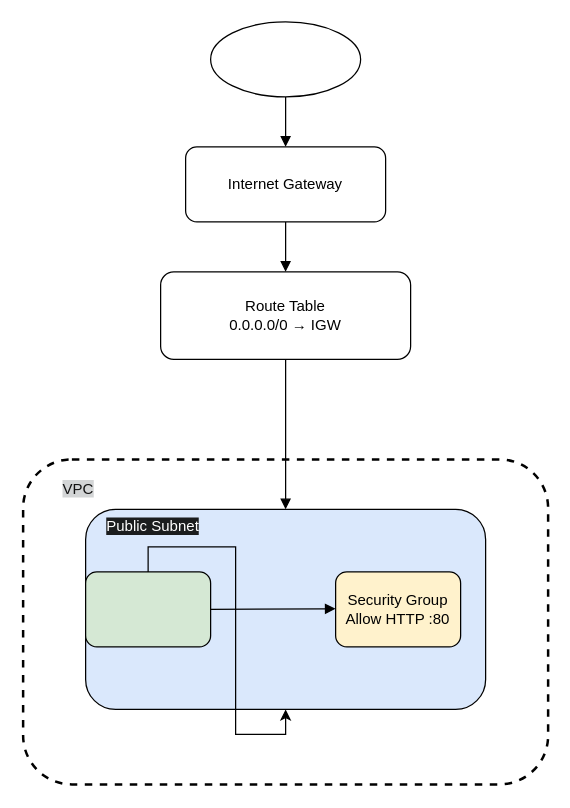
This 570x808 diagram has some shape labels left out. The shapes that lost their labels are listed below. From the top down, each one's centre as x and y in pixels, then its label:
At [285,59]: "Internet".
At [147,609]: "EC2 Instance (Public IP)".
